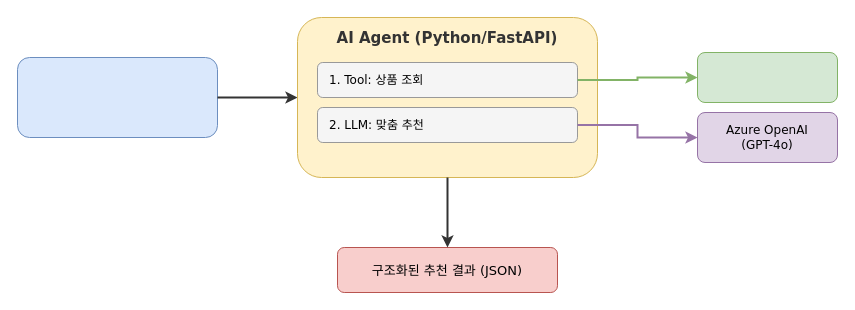
The diagram is 855 pixels wide and 310 high, and some of its shapes have lost their labels. Each missing label, with the centre of its shape:
product-service :3002: (767,77)
고객 질문 "활발한 고양이 장난감 추천해줘": (117,97)
